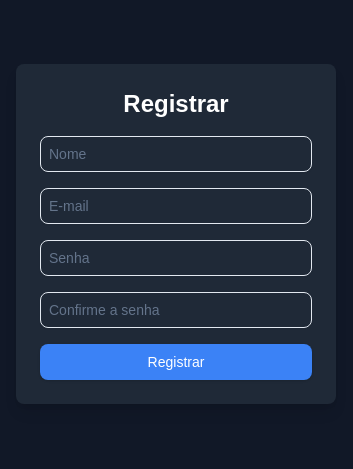
Scenario: RegisterForm › shows error messages for required fields when submitted empty
The width and height of the screenshot is (353, 469).
Click the button "Registrar" at [176, 362], box [40,344,312,380]
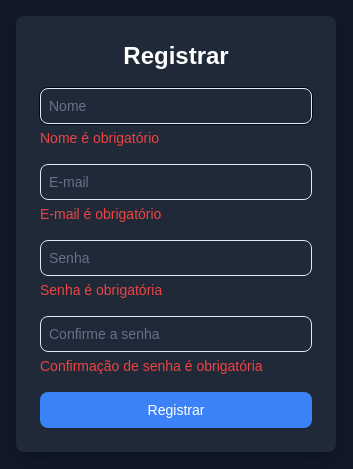
Expected: the text "Nome é obrigatório" is shown, [40,130,159,146]
Expected: the text "E-mail é obrigatório" is shown, [40,206,161,222]
Expected: the text "Senha é obrigatória" is shown, [40,282,162,298]
